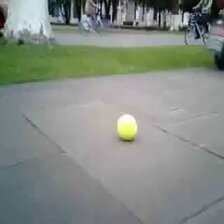tennis: (117, 113, 138, 140)
